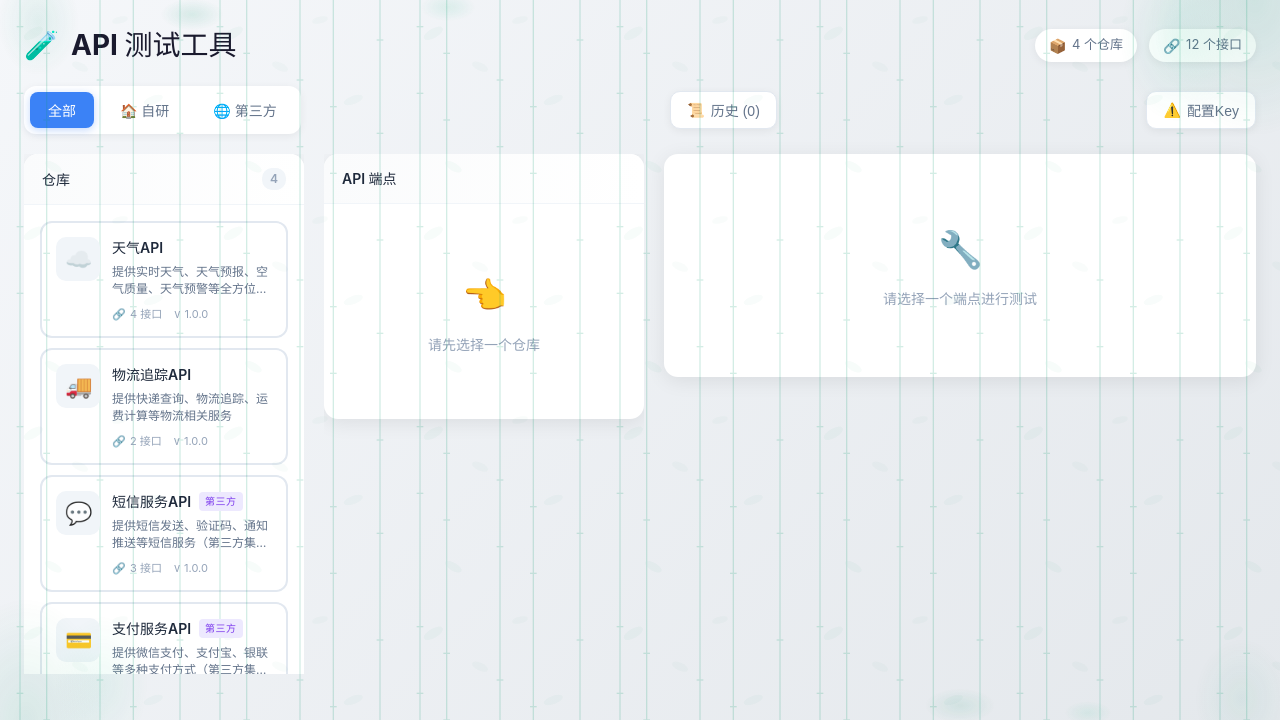
API Key 配置 › TC-FE-TESTER-004: 打开配置面板 → 输入 → 保存后按钮显示「已配置」
This screenshot has width=1280, height=720.
Click the text "配置Key" at (1213,110), box 1187,100 -> 1239,120
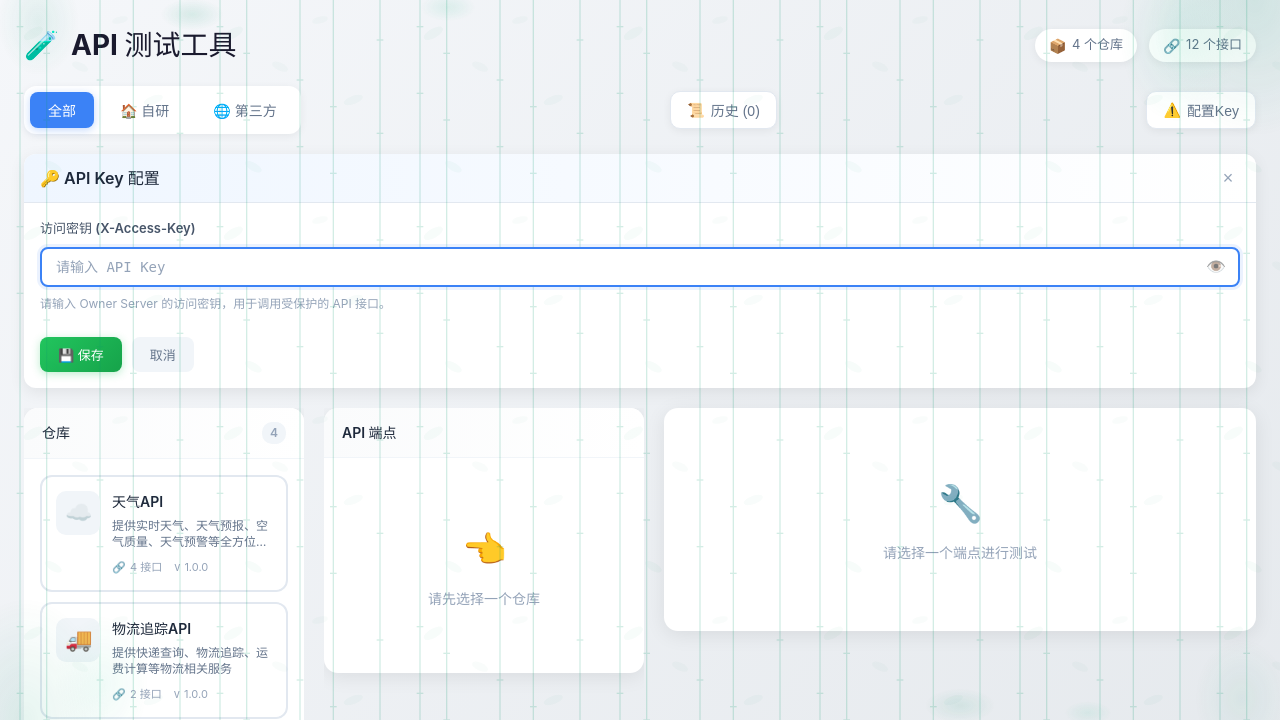
Type "my-access-key" into the password field with placeholder "请输入 API Key" at (640,266), box 40,246 -> 1240,286
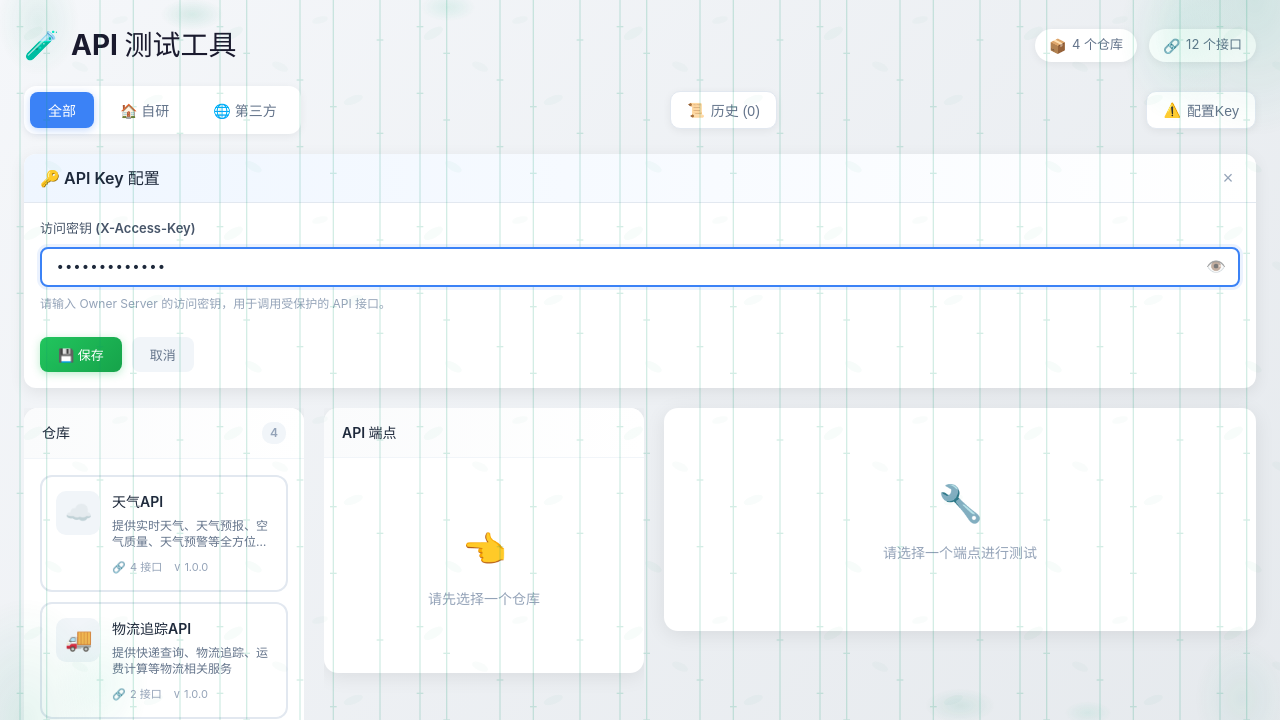
Click the button "💾 保存" at (81,354), box 40,336 -> 122,372
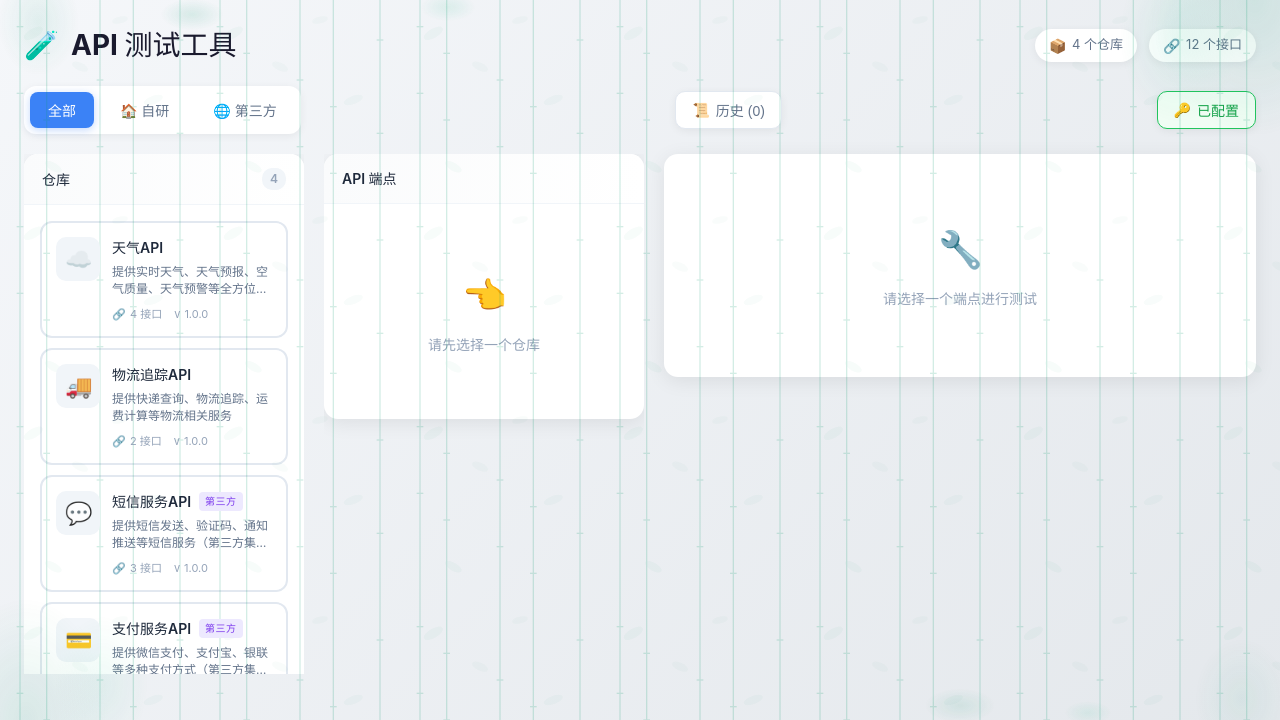
Expected: the text "已配置" is shown, 1197,100 -> 1239,120
